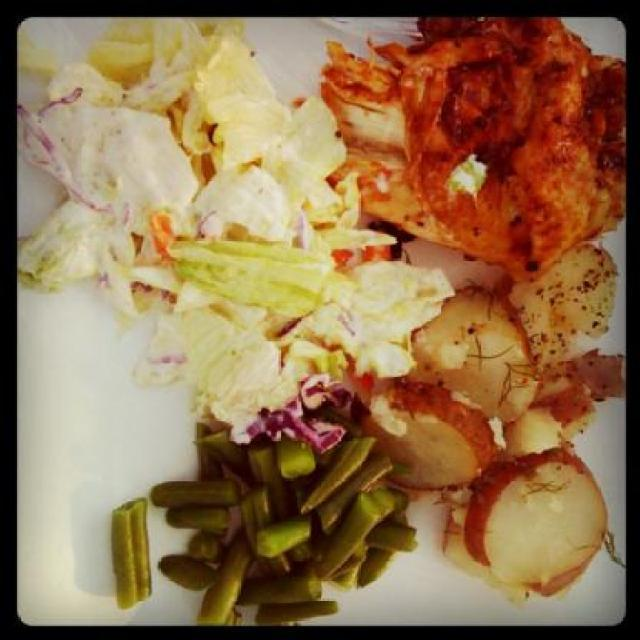Potato: (358, 292, 622, 611), (464, 446, 606, 594), (526, 248, 614, 350)
